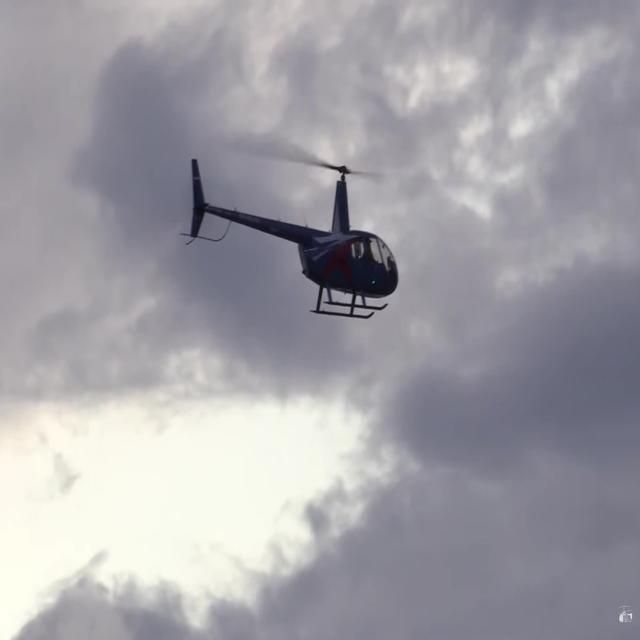CIV_HELO: (189, 155, 401, 323)
